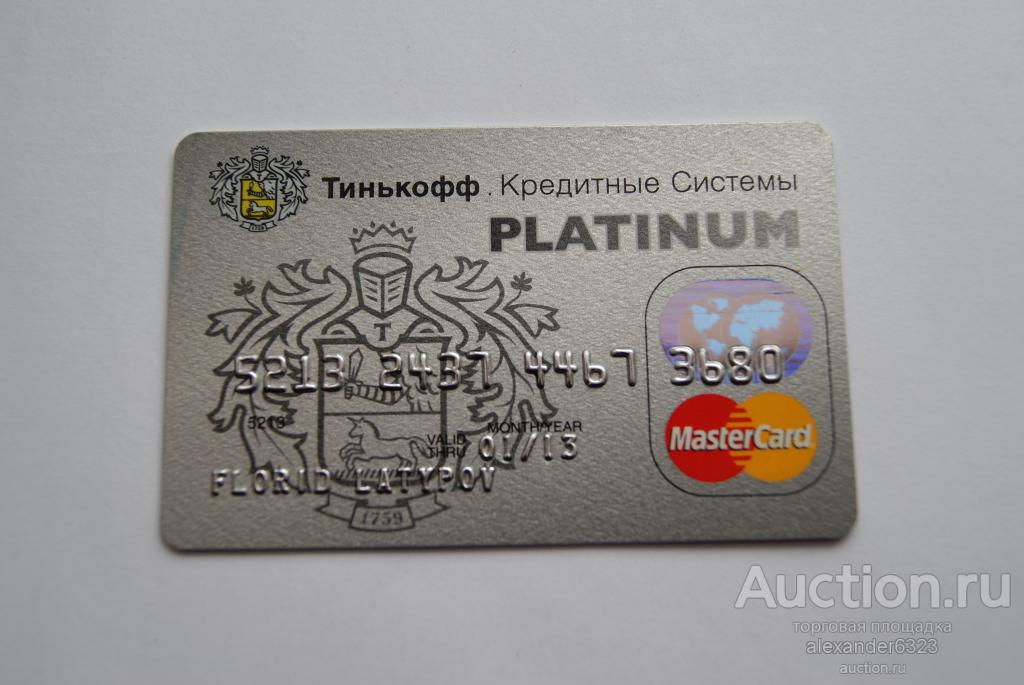card: (160, 120, 857, 549)
